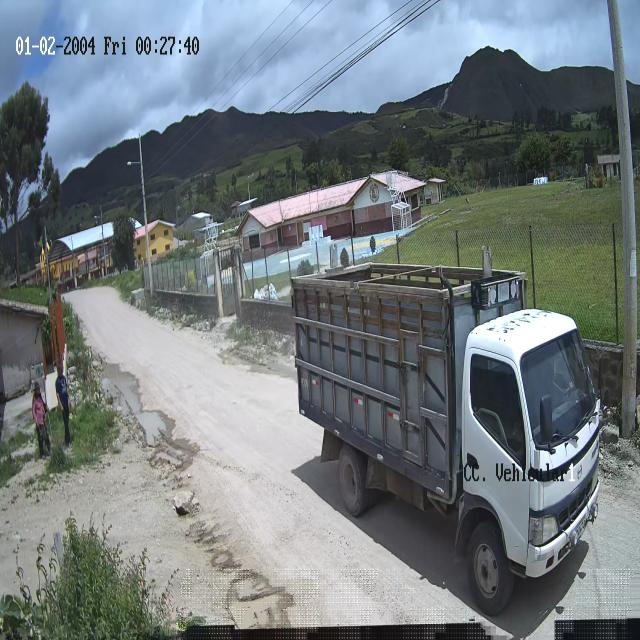TRUCK: (292, 252, 607, 600)
